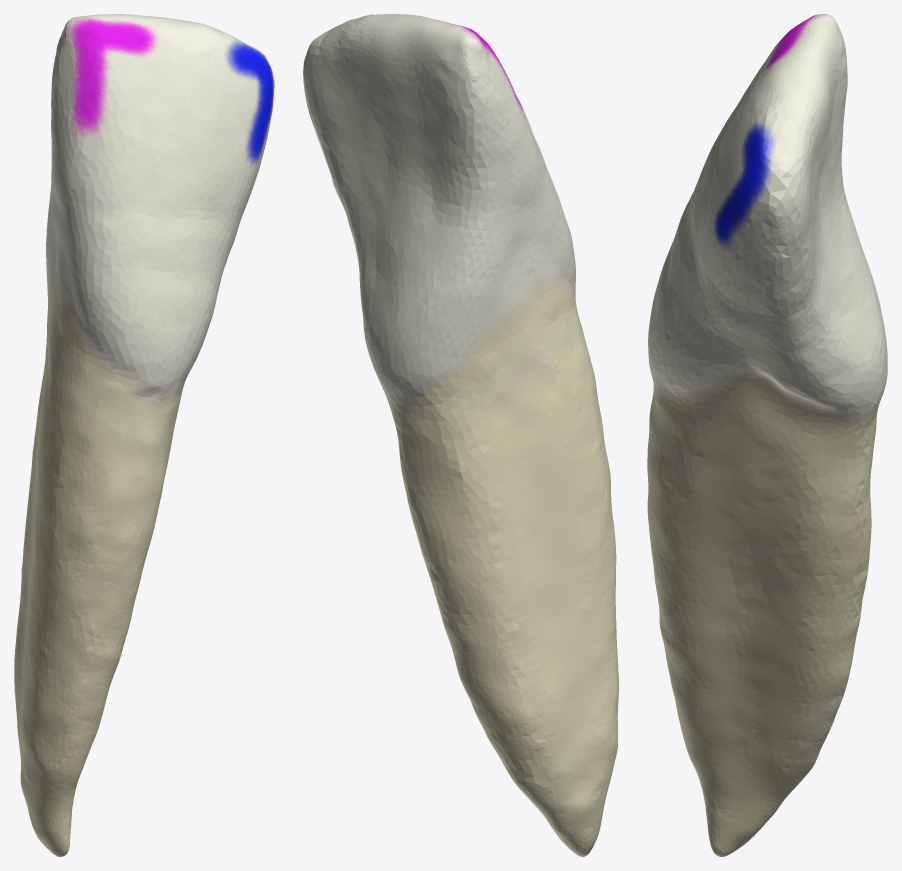
The model's file is 32 - incisivo lateral inferior esquerdo - ângulos.glb.
The picture shows the model from 3 angles, left to right: view 1: azimuth 30°, elevation 25°; view 2: azimuth 150°, elevation 25°; view 3: azimuth 270°, elevation 25°; orthographic projection. The views are drawn at different scales.
Parts seen in each view (by area): view 1: 3MFMeshParent_0; view 2: 3MFMeshParent_0; view 3: 3MFMeshParent_0.
Part boxes in pixels (left/top/right/bottom): 3MFMeshParent_0: left=14, top=14, right=274, bottom=856; 3MFMeshParent_0: left=303, top=14, right=618, bottom=856; 3MFMeshParent_0: left=647, top=14, right=887, bottom=856.
Size of the model in its own units: 0.1814 by 0.5163 by 0.1283.
1 material, 1 textured.
